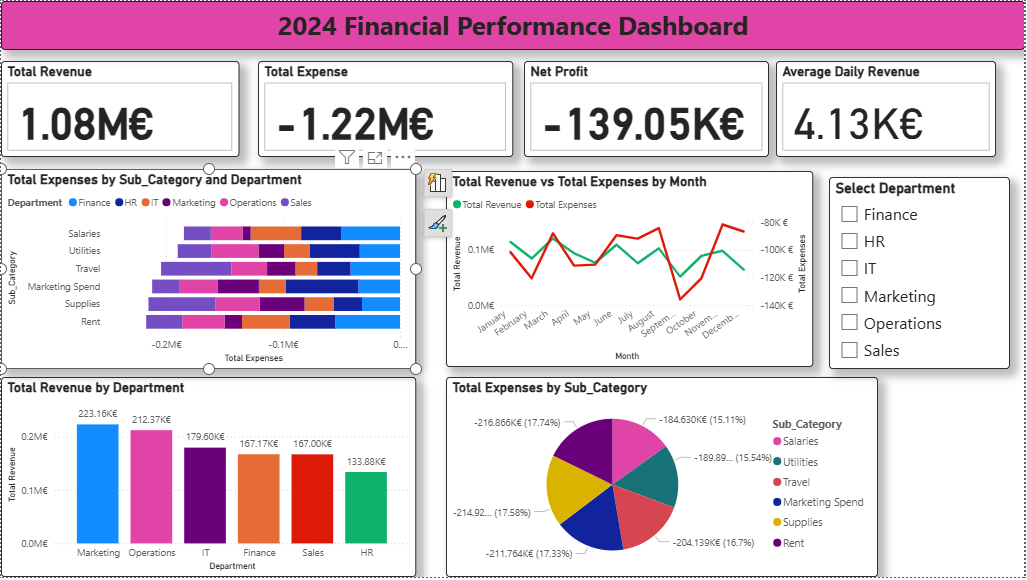

What the dashboard file says about the page in this screenshot:
{"tool":"powerbi","page":{"name":"Page 1","canvas":[1280,720],"ordinal":0},"visuals":[{"type":"cardVisual","title":"Total Revenue","fields":{"Data":["Transactions.Total Revenue"]},"box":[0,75,297.5,120],"z":0},{"type":"cardVisual","title":"Total Expense","fields":{"Data":["Transactions.Total Expenses"]},"box":[321.2,75,318.8,120],"z":1},{"type":"cardVisual","title":"Net Profit","fields":{"Data":["Transactions.Net Profit"]},"box":[653.8,75,306.2,120],"z":2},{"type":"cardVisual","title":"Average Daily Revenue","fields":{"Data":["Transactions.Average Weekday Revenue"]},"box":[968.8,75,275,120],"z":3},{"type":"lineChart","title":"Total Revenue vs Total Expenses by Month","fields":{"Category":["DateTable.Date.Variation.Date Hierarchy.Month"],"Y":["Transactions.Total Revenue"],"Y2":["Transactions.Total Expenses"]},"box":[556.2,212.5,458.8,245],"z":4},{"type":"columnChart","fields":{"Y":["Transactions.Total Revenue"],"Category":["Transactions.Department"]},"box":[0,470,518.8,250],"z":5},{"type":"pieChart","fields":{"Category":["Transactions.Sub_Category"],"Y":["Transactions.Total Expenses"]},"box":[556.2,470,540,250],"z":6},{"type":"barChart","fields":{"Category":["Transactions.Sub_Category"],"Series":["Transactions.Department"],"Y":["Transactions.Total Expenses"]},"box":[0,210,518.8,250],"z":7},{"type":"textbox","box":[0,0,1280,61.2],"z":8},{"type":"slicer","title":"Select Department","fields":{"Values":["Transactions.Department"]},"box":[1035,220,226.2,240],"z":9}]}

Visuals, with their boxes in screenshot pixels (x1, y1, x2, y2), scaled from the page's 1280x720 canvas onto the 1027x580 screenshot:
"Total Revenue" cardVisual: crop(0, 60, 239, 157)
"Total Expense" cardVisual: crop(258, 60, 514, 157)
"Net Profit" cardVisual: crop(525, 60, 770, 157)
"Average Daily Revenue" cardVisual: crop(777, 60, 998, 157)
"Total Revenue vs Total Expenses by Month" lineChart: crop(446, 171, 814, 369)
columnChart - Transactions.Total Revenue x Transactions.Department: crop(0, 379, 416, 579)
pieChart - Transactions.Sub_Category x Transactions.Total Expenses: crop(446, 379, 880, 579)
barChart - Transactions.Sub_Category x Transactions.Department: crop(0, 169, 416, 371)
textbox: crop(0, 0, 1026, 49)
"Select Department" slicer: crop(830, 177, 1012, 371)
